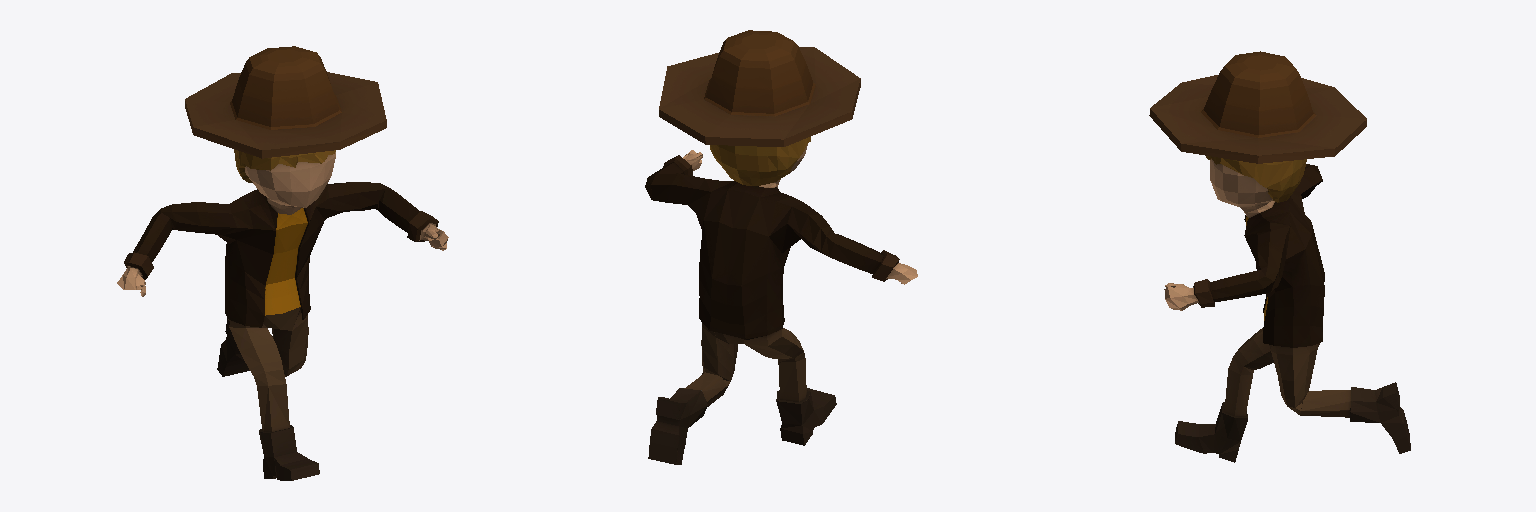
The picture shows the model from 3 angles: view 1: azimuth 30°, elevation 25°; view 2: azimuth 150°, elevation 25°; view 3: azimuth 270°, elevation 25°; orthographic projection.
Visible parts, largest first — view 1: Character_Cube.005; view 2: Character_Cube.005; view 3: Character_Cube.005.
Part boxes in pixels (left/top/right/bottom): Character_Cube.005: left=117, top=46, right=448, bottom=480; Character_Cube.005: left=645, top=30, right=917, bottom=464; Character_Cube.005: left=1149, top=51, right=1410, bottom=462.
Size of the model in its own units: 10.92 by 14.99 by 8.74.
Materials: 1 (1 with a texture image).